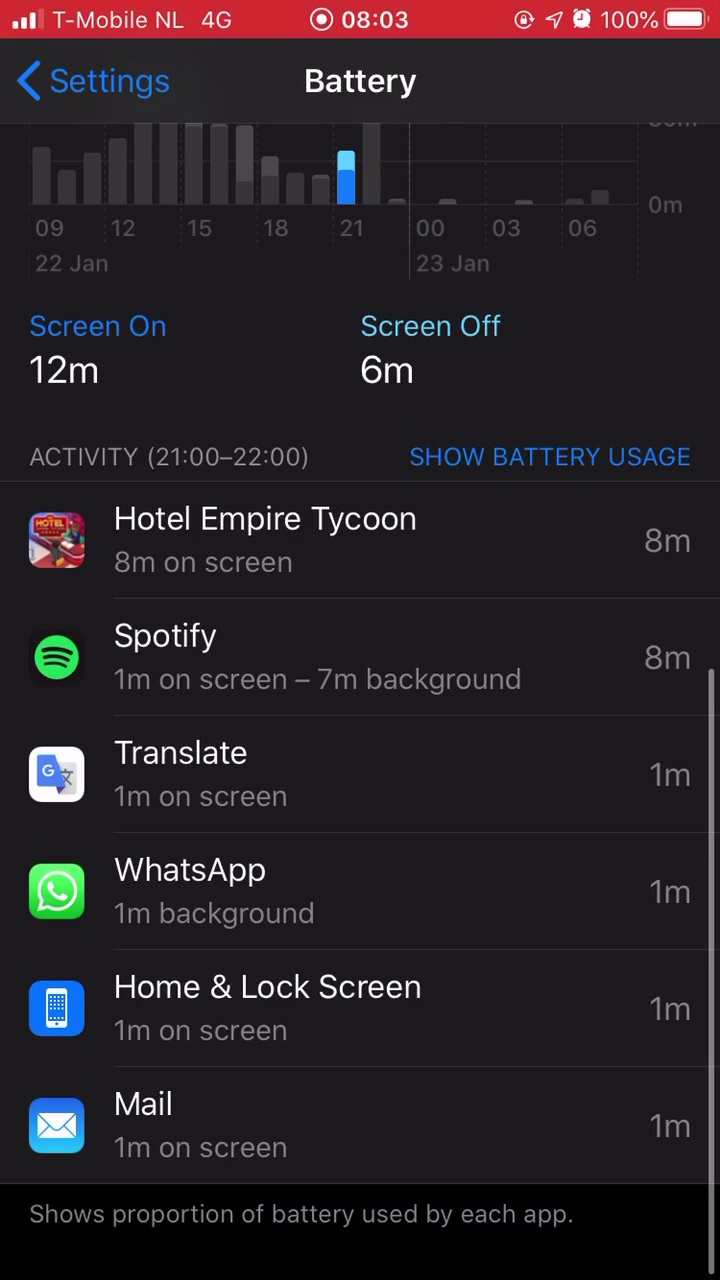activity: (25, 419, 337, 483)
app: (21, 486, 701, 600), (21, 615, 701, 729), (22, 737, 702, 851), (24, 855, 704, 969), (22, 973, 702, 1087), (20, 1089, 700, 1203)
